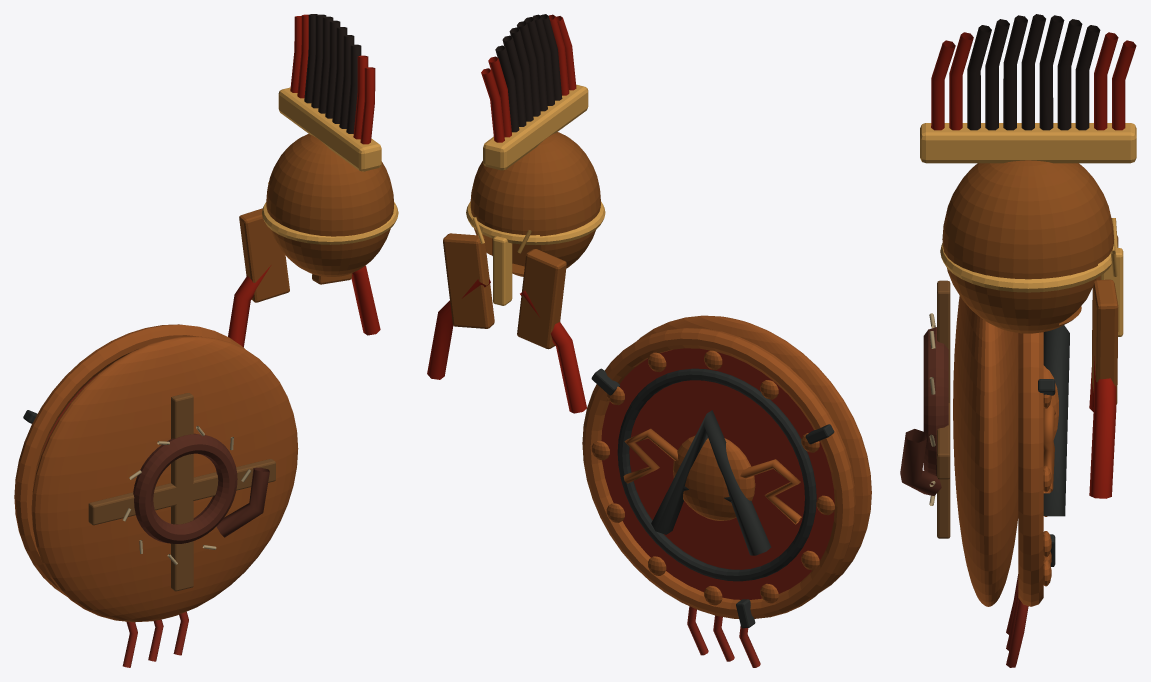
File: veteran_role_kit_LOD0.glb
3 renders of one model, left to right at view 1: azimuth 30°, elevation 25°; view 2: azimuth 150°, elevation 25°; view 3: azimuth 270°, elevation 25°, orthographic. The views are drawn at different scales.
Parts seen in each view (by area): view 1: VeteranReinforcedAspis_EliteAspisConvexBowl, VeteranCorinthianDome, VeteranReinforcedAspis_EliteAspisOuterReinforcedRim, VeteranReinforcedAspis_EliteAspisRearPorpax, VeteranReinforcedAspis_EliteAspisRearRibVertical, VeteranReinforcedAspis_EliteAspisRearRibHorizontal, VeteranLongitudinalCrestBox, VeteranCheekGuard, VeteranVictoryBrowBand, VeteranReinforcedAspis_EliteAspisRearAntilabe, VeteranRankCord, VeteranRankCord.001 (+11 smaller); view 2: VeteranReinforcedAspis_EliteAspisPaintedFace, VeteranReinforcedAspis_EliteAspisOuterReinforcedRim, VeteranCorinthianDome, VeteranReinforcedAspis_EliteAspisInnerBlackRing, VeteranReinforcedAspis_EliteAspisConvexBowl, VeteranReinforcedAspis_EliteAspisLambda, VeteranCheekGuard.001, VeteranReinforcedAspis_EliteAspisCommandBoss, VeteranCheekGuard, VeteranLongitudinalCrestBox, VeteranRankCord, VeteranVictoryBrowBand (+14 smaller); view 3: VeteranCorinthianDome, VeteranReinforcedAspis_EliteAspisConvexBowl, VeteranLongitudinalCrestBox, VeteranReinforcedAspis_EliteAspisOuterReinforcedRim, VeteranReinforcedAspis_EliteAspisLambda, VeteranReinforcedAspis_EliteAspisRearPorpax, VeteranRankCord.001, VeteranCheekGuard.001, VeteranVictoryBrowBand, VeteranReinforcedAspis_EliteAspisRearRibVertical, VeteranLongCrestHair.006, VeteranReinforcedAspis_EliteAspisRearAntilabe (+14 smaller).
Part boxes in pixels (x1,y1,x2,y2): VeteranReinforcedAspis_EliteAspisConvexBowl: (31,336,298,622); VeteranCorinthianDome: (266,134,394,276); VeteranReinforcedAspis_EliteAspisOuterReinforcedRim: (14,324,244,596); VeteranReinforcedAspis_EliteAspisRearPorpax: (133,433,237,543); VeteranReinforcedAspis_EliteAspisRearRibVertical: (171,393,193,591); VeteranReinforcedAspis_EliteAspisRearRibHorizontal: (88,459,275,525); VeteranLongitudinalCrestBox: (278,87,381,171); VeteranCheekGuard: (239,208,289,302); VeteranVictoryBrowBand: (262,202,398,244); VeteranReinforcedAspis_EliteAspisRearAntilabe: (216,467,269,537); VeteranRankCord: (228,265,271,347); VeteranRankCord.001: (351,265,380,335); VeteranReinforcedAspis_EliteAspisPaintedFace: (601,348,834,599); VeteranReinforcedAspis_EliteAspisOuterReinforcedRim: (582,328,855,618); VeteranCorinthianDome: (470,132,600,276); VeteranReinforcedAspis_EliteAspisInnerBlackRing: (617,368,816,581); VeteranReinforcedAspis_EliteAspisConvexBowl: (637,315,871,592); VeteranReinforcedAspis_EliteAspisLambda: (651,410,771,555); VeteranCheekGuard.001: (443,233,494,328); VeteranReinforcedAspis_EliteAspisCommandBoss: (673,435,755,520); VeteranCheekGuard: (517,249,566,349); VeteranLongitudinalCrestBox: (483,84,588,170); VeteranRankCord: (520,290,586,413); VeteranVictoryBrowBand: (466,201,605,244); VeteranCorinthianDome: (942,160,1114,333); VeteranReinforcedAspis_EliteAspisConvexBowl: (953,296,1018,606); VeteranLongitudinalCrestBox: (920,123,1136,163); VeteranReinforcedAspis_EliteAspisOuterReinforcedRim: (1018,332,1043,606); VeteranReinforcedAspis_EliteAspisLambda: (1043,325,1069,516); VeteranReinforcedAspis_EliteAspisRearPorpax: (923,327,948,475); VeteranRankCord.001: (1089,356,1116,498); VeteranCheekGuard.001: (1092,279,1118,404); VeteranVictoryBrowBand: (940,243,1115,292); VeteranReinforcedAspis_EliteAspisRearRibVertical: (937,280,950,538); VeteranLongCrestHair.006: (1039,15,1064,130); VeteranReinforcedAspis_EliteAspisRearAntilabe: (900,429,941,495).
Size of the model in its own units: 1.28 by 1.84 by 0.5235.
